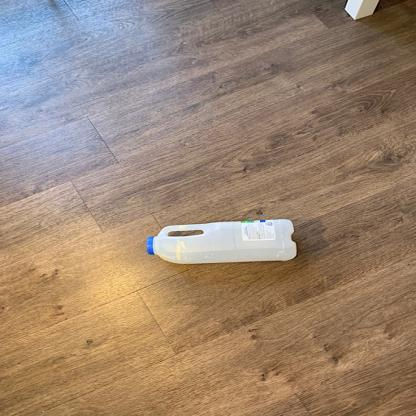trash: (144, 215, 298, 267)
